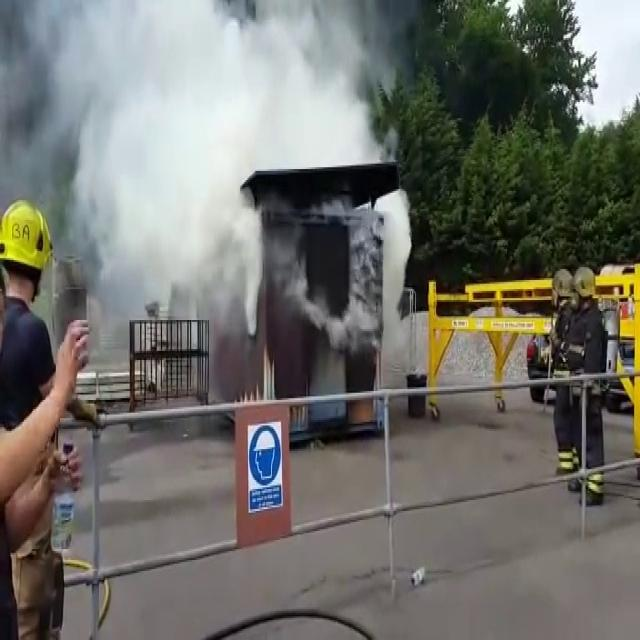Smoke: (91, 24, 269, 368), (280, 52, 375, 200)
